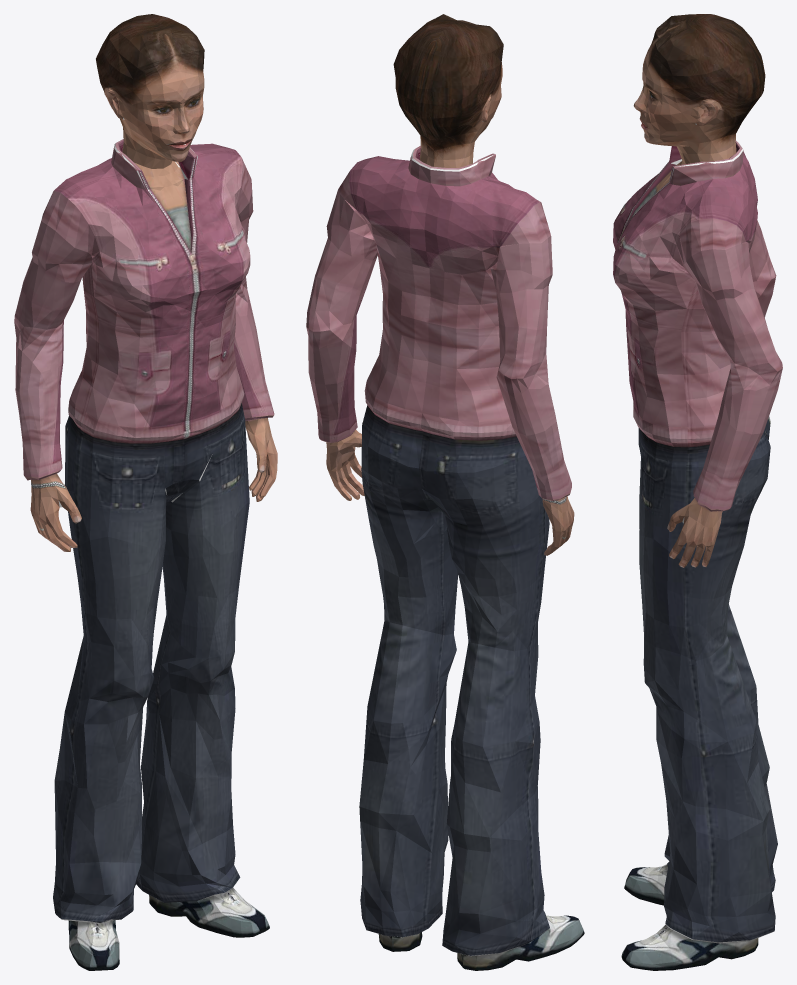
Rendered from female_standing.dae.
The picture shows the model from 3 angles, left to right: view 1: azimuth 30°, elevation 25°; view 2: azimuth 150°, elevation 25°; view 3: azimuth 270°, elevation 25°; orthographic projection.
Visible parts, largest first — view 1: casual02_f_1; view 2: casual02_f_1; view 3: casual02_f_1.
Boxes of the visible parts, x1,y1,x2,y2 form: casual02_f_1: [14, 14, 277, 970]; casual02_f_1: [306, 14, 584, 970]; casual02_f_1: [613, 14, 782, 970].
Bounding box in the file's own units: 48.06 × 28.51 × 169.
2 materials, 1 textured.
